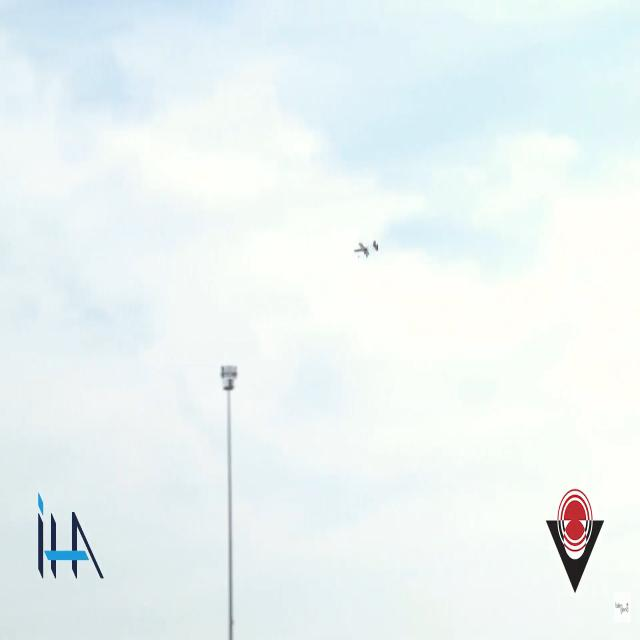iha: (353, 240, 378, 258)
